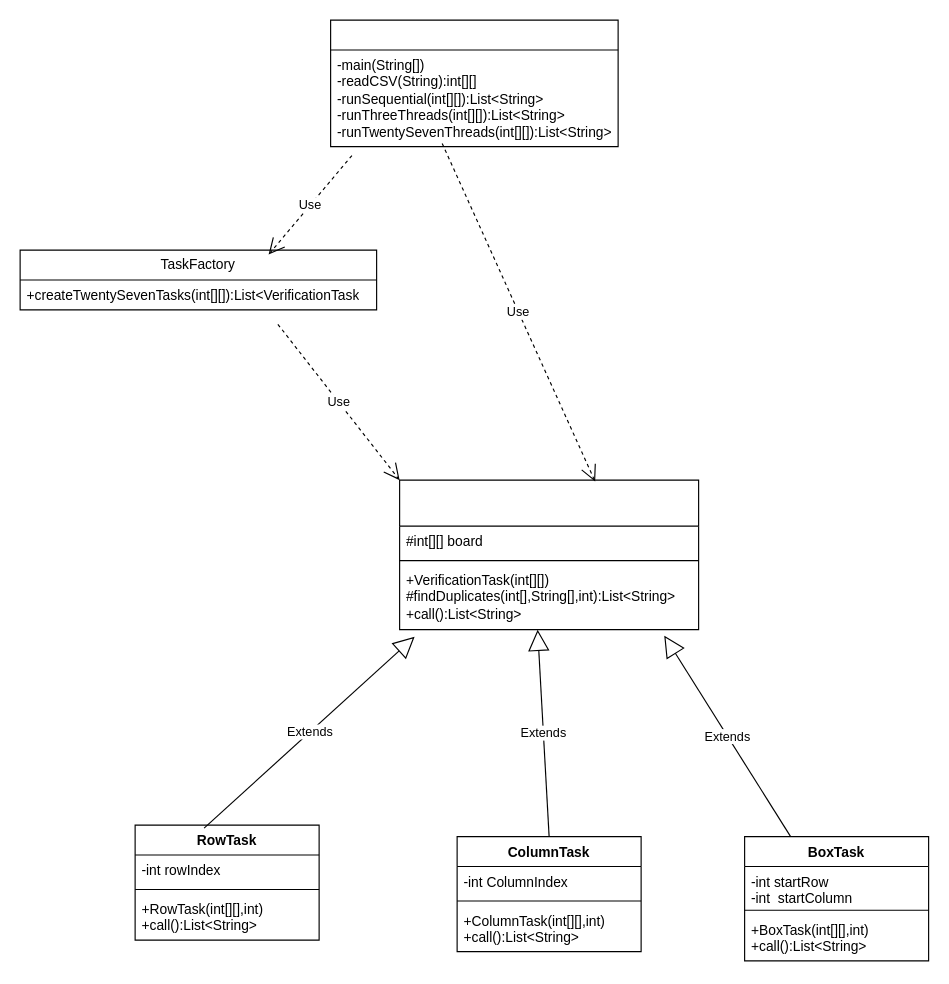
This 949x984 diagram has some shape labels left out. Here are the shapes that lost their labels. From the top down, the box of each, then its label:
(329, 19, 618, 147): SudokuVerifier
(398, 479, 699, 630): <<abstract>> VerificationTask
